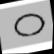no answer: (7, 7, 51, 42)
